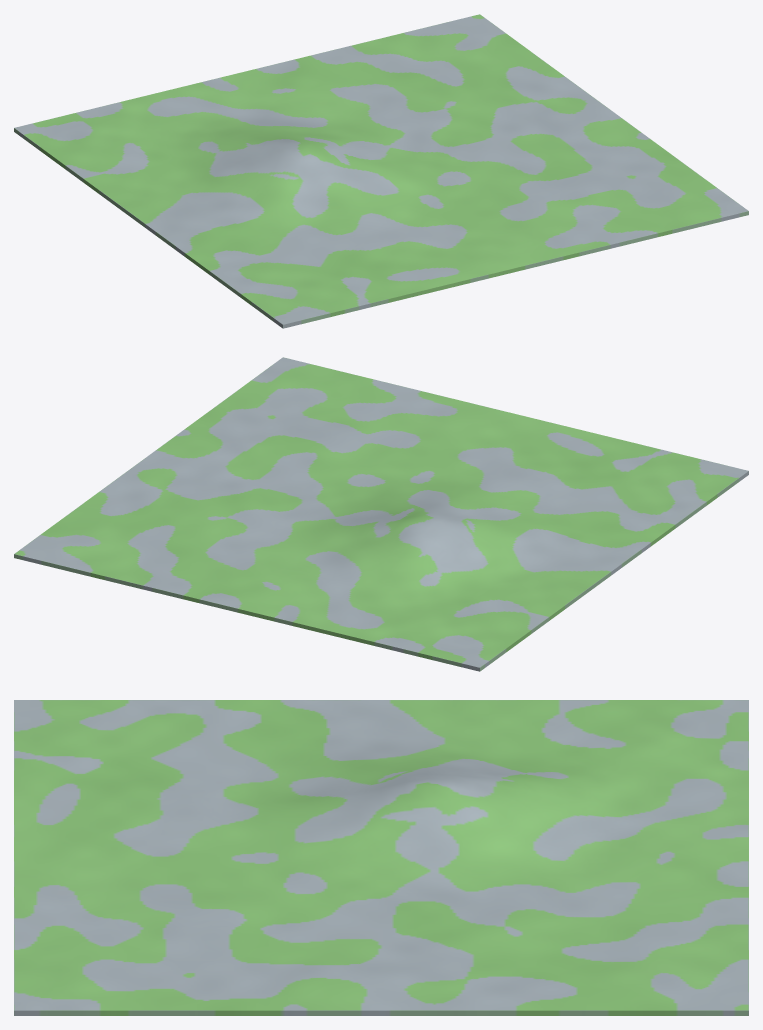
Rendered from Grass_RockyGround_07.obj.
The picture shows the model from 3 angles, top to bottom: view 1: azimuth 30°, elevation 25°; view 2: azimuth 150°, elevation 25°; view 3: azimuth 270°, elevation 25°; orthographic projection. The views are drawn at different scales.
Bounding box in the file's own units: 10 × 0.5354 × 10.
1 material, 1 textured.
